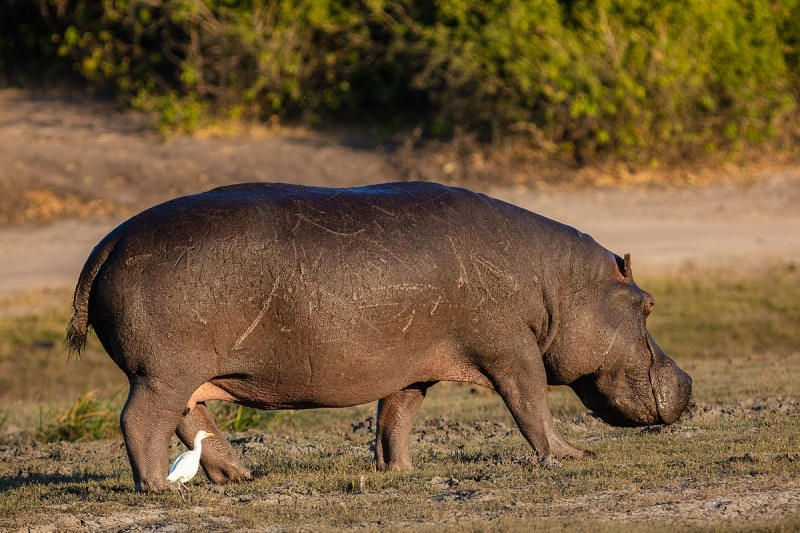hipopotamo: (68, 178, 698, 483)
